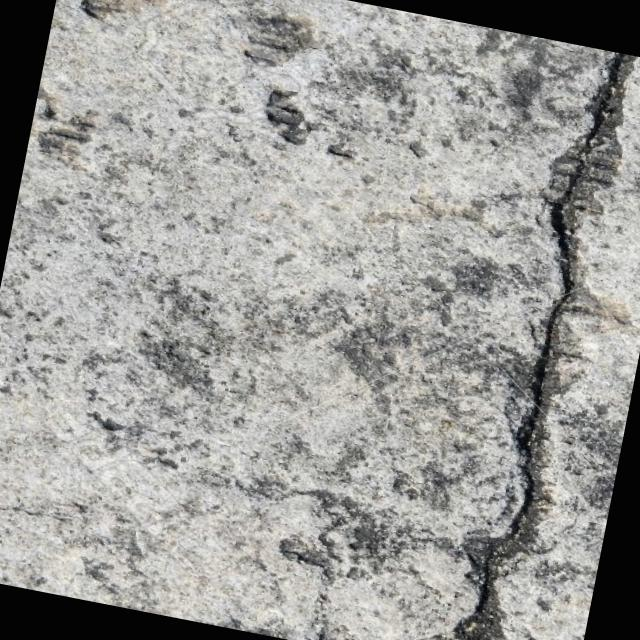crack: (472, 43, 640, 535)
spall: (400, 512, 548, 640), (66, 0, 311, 70), (532, 120, 628, 235), (258, 84, 362, 159), (30, 86, 106, 174)
